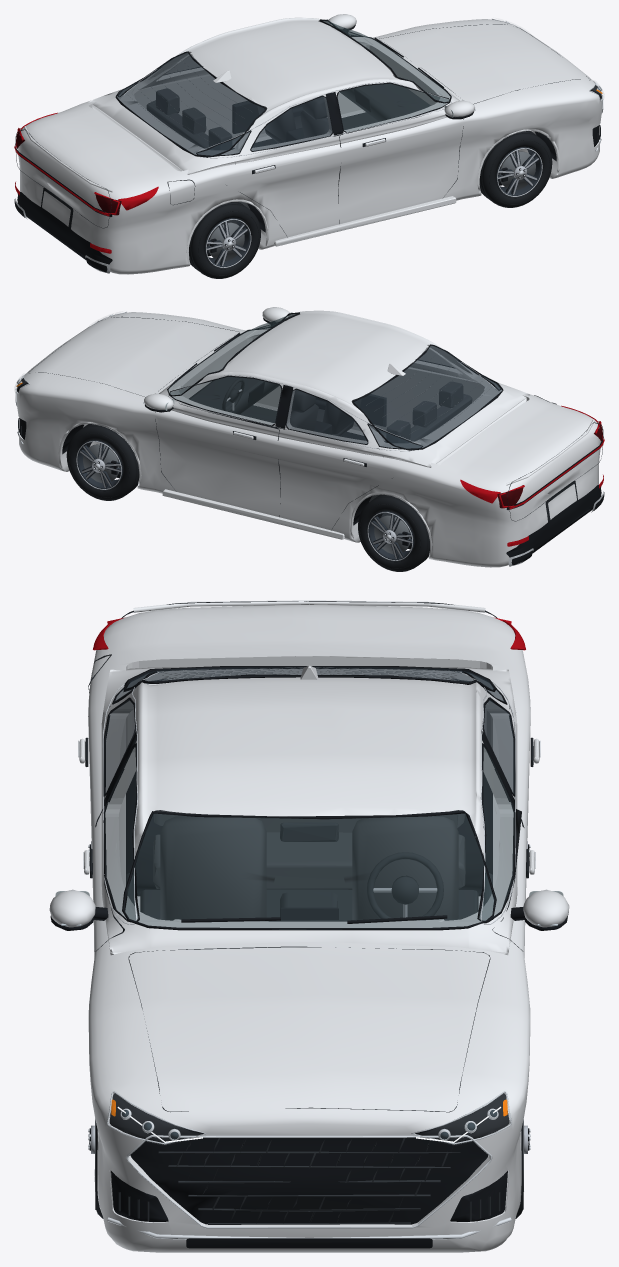
File: hyundai_sonata.glb
3 renders of one model, top to bottom at view 1: azimuth 30°, elevation 25°; view 2: azimuth 150°, elevation 25°; view 3: azimuth 270°, elevation 25°, orthographic. The views are drawn at different scales.
Visible parts, largest first — view 1: BodyPaint, Glazing, CabinAndSeats, RubberTrimAndUnderbody, RFTires, RRTires, RFAlloyRims, RRAlloyRims, RearBrakeLights, Metalwork; view 2: BodyPaint, Glazing, CabinAndSeats, RubberTrimAndUnderbody, LFTires, LRTires, LFAlloyRims, LRAlloyRims, RearBrakeLights, Metalwork; view 3: BodyPaint, RubberTrimAndUnderbody, Glazing, CabinAndSeats, Metalwork, HeadlightsAndIndicators.
Boxes of the visible parts, bbox=[...] form: BodyPaint: bbox=[18, 14, 602, 274]; Glazing: bbox=[117, 21, 450, 155]; CabinAndSeats: bbox=[147, 84, 430, 238]; RubberTrimAndUnderbody: bbox=[14, 19, 601, 272]; RFTires: bbox=[479, 131, 552, 207]; RRTires: bbox=[189, 202, 260, 278]; RFAlloyRims: bbox=[496, 147, 542, 196]; RRAlloyRims: bbox=[205, 218, 251, 267]; RearBrakeLights: bbox=[14, 112, 158, 253]; Metalwork: bbox=[15, 18, 603, 273]; BodyPaint: bbox=[16, 307, 600, 567]; Glazing: bbox=[168, 314, 501, 449]; CabinAndSeats: bbox=[189, 377, 471, 531]; RubberTrimAndUnderbody: bbox=[17, 312, 604, 565]; LFTires: bbox=[66, 424, 139, 500]; LRTires: bbox=[358, 494, 429, 571]; LFAlloyRims: bbox=[76, 440, 122, 489]; LRAlloyRims: bbox=[367, 511, 413, 560]; RearBrakeLights: bbox=[460, 405, 604, 546]; Metalwork: bbox=[15, 311, 603, 566]; BodyPaint: bbox=[49, 600, 569, 1252]; RubberTrimAndUnderbody: bbox=[50, 601, 567, 1248]; Glazing: bbox=[104, 667, 514, 929]; CabinAndSeats: bbox=[126, 810, 492, 921]; Metalwork: bbox=[55, 667, 563, 1239]; HeadlightsAndIndicators: bbox=[61, 923, 557, 1142].
Size of the model in its own units: 4.97 by 1.46 by 2.2.
